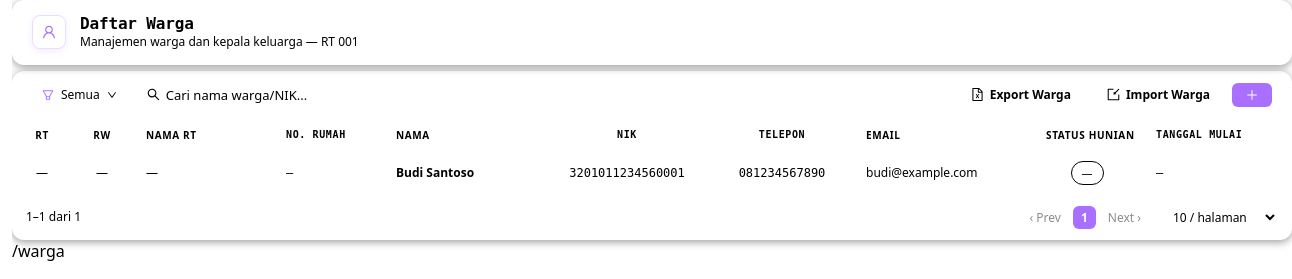
Test: W4.2C — Aksi row navigation › row click navigates to /warga/<resident-id>
Expected: the text "Budi Santoso" is shown, [382,151,542,195]
Click the button that starts with "Budi Santoso". click: (652, 173)
box: [12,151,1291,195]
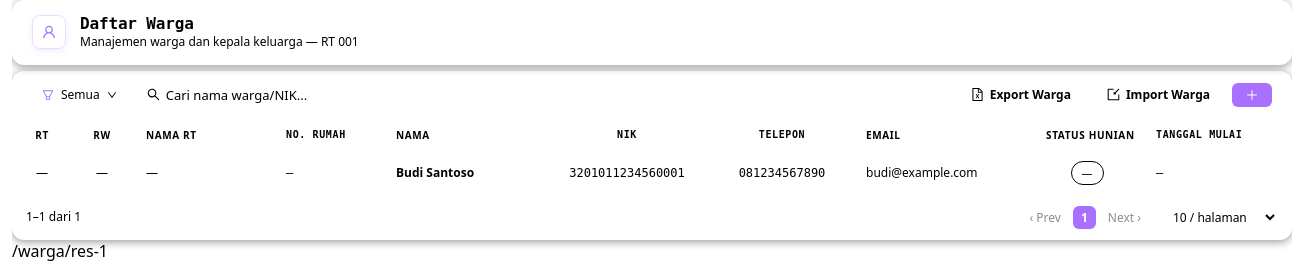
Expected: the text with test id "location" reads "/warga/res-1", [12,240,108,262]
